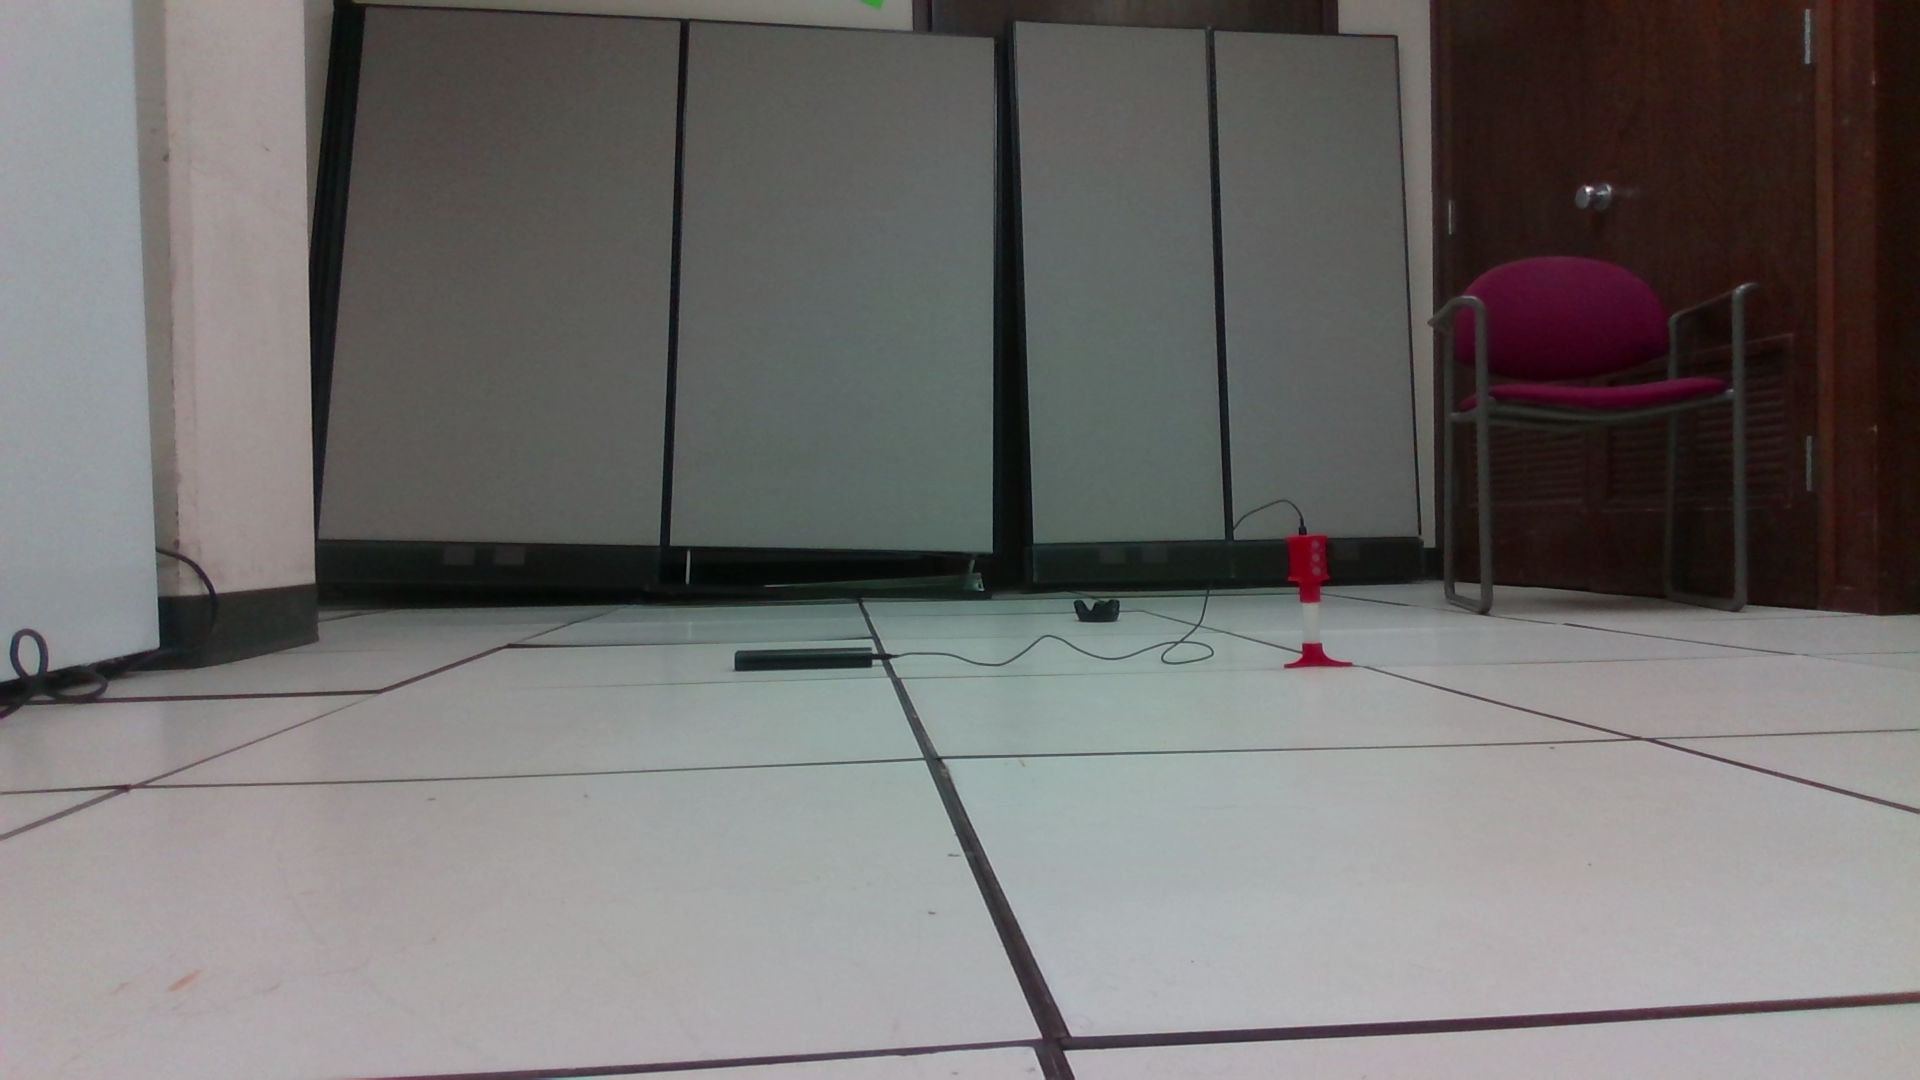stoplight: (1288, 537, 1329, 605)
